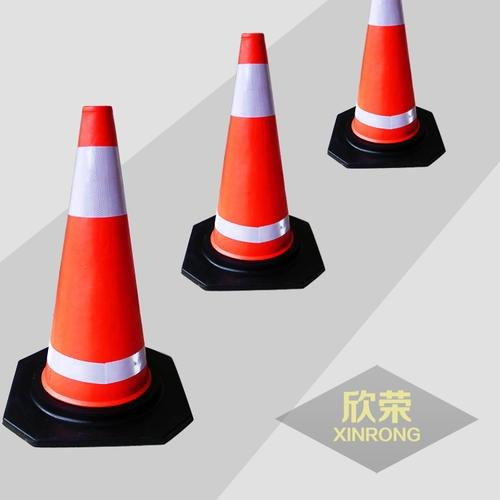cone_barrel: (31, 112, 165, 419), (201, 38, 305, 269)
